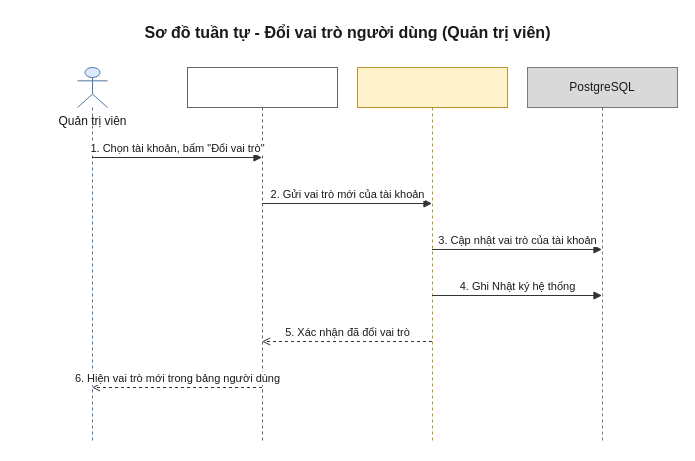
This 695x461 diagram has some shape labels left out. Here are the shapes that lost their labels. From the top down, the box of each, then its label:
(186, 66, 338, 444): Màn Người dùng
(356, 66, 508, 444): Máy chủ AlgoPrep
